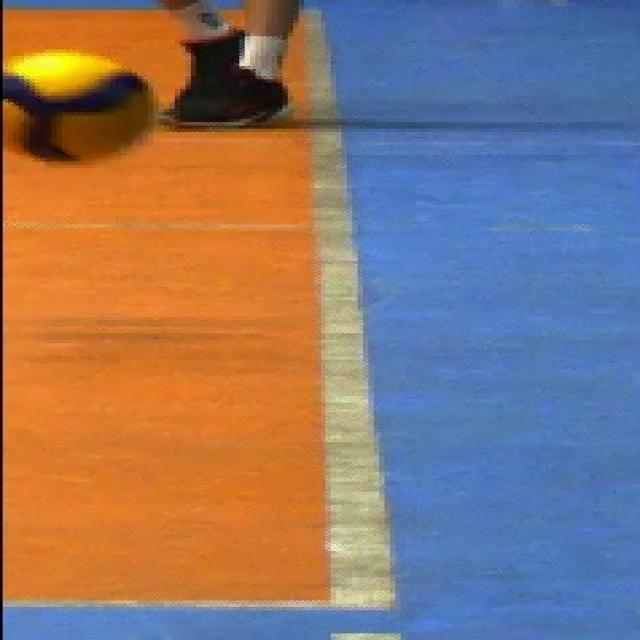Volleyball: (3, 51, 150, 164)
